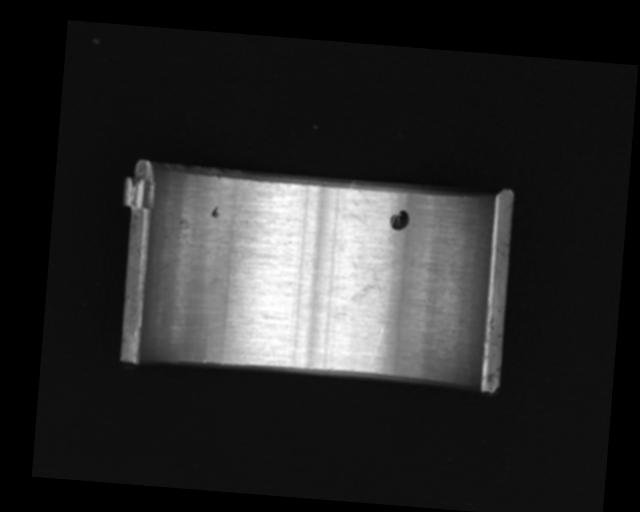blot: (349, 255, 401, 311), (388, 208, 410, 232)
bruise: (209, 205, 220, 220)
nick: (366, 324, 385, 368)
